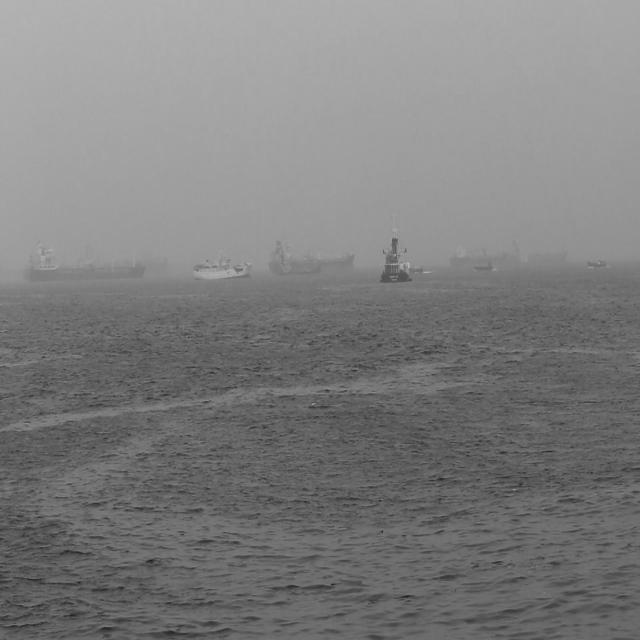ship: (25, 238, 146, 278), (268, 240, 354, 276), (382, 212, 412, 284), (193, 253, 254, 280), (448, 246, 516, 264), (586, 257, 607, 269), (472, 262, 493, 272), (412, 263, 424, 275)
